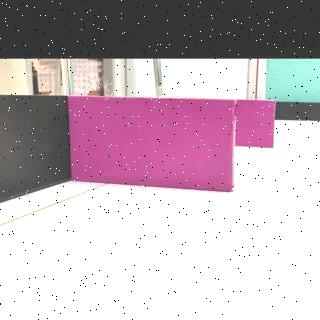xparking: (70, 98, 232, 188), (237, 101, 274, 147)
